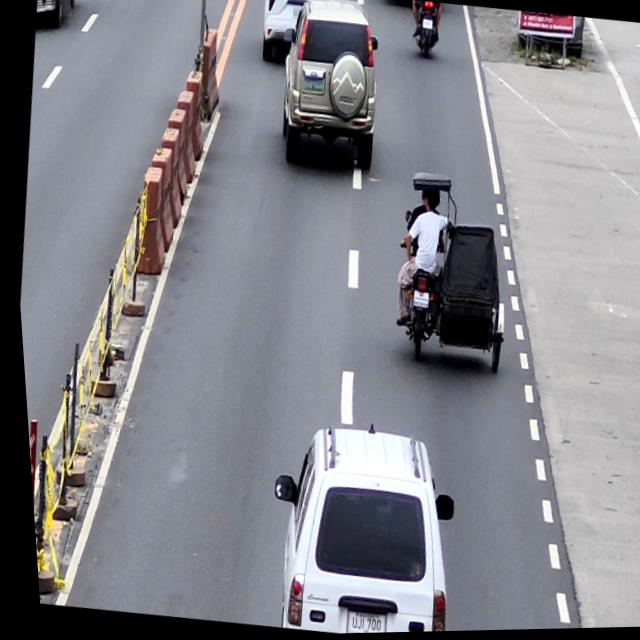Car: (248, 419, 463, 636), (268, 0, 390, 176), (254, 0, 342, 76)
License-Plate: (335, 611, 380, 635), (299, 74, 325, 96), (421, 18, 434, 31)
Motorcycle: (407, 1, 443, 67)
Tricycle: (378, 168, 521, 379)
